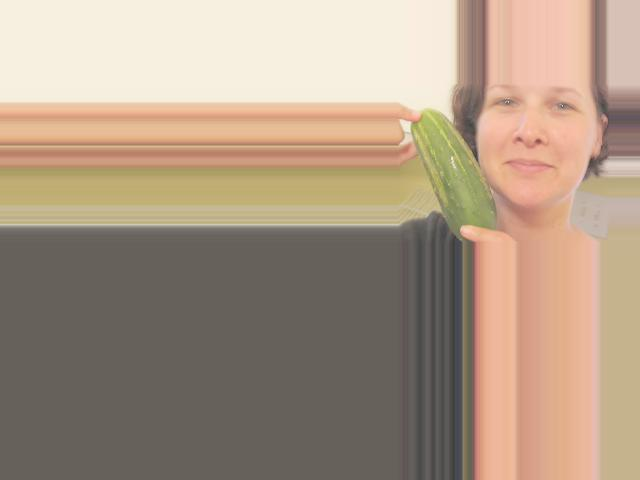cucumber: (411, 107, 498, 242)
